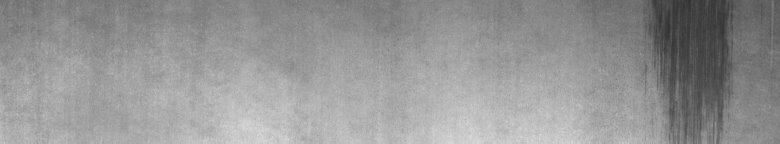ka: (643, 4, 738, 136)
